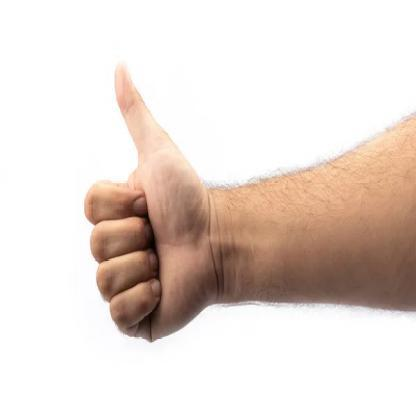thumb_up: (83, 61, 219, 345)
